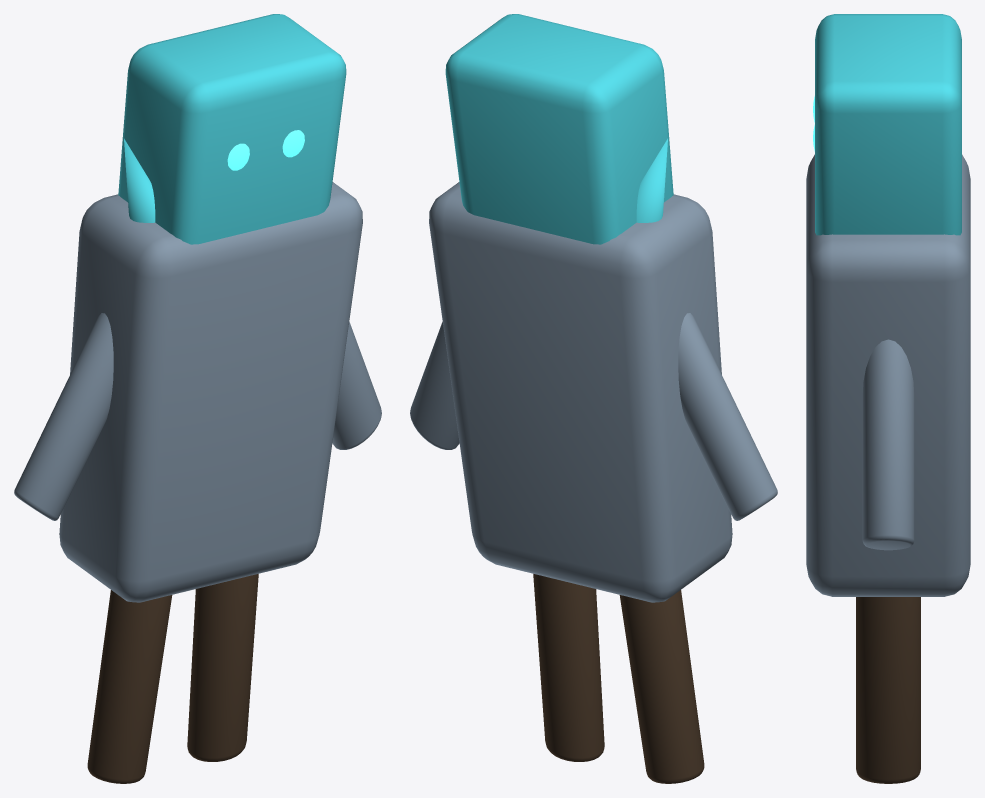
The model's file is construct_v4.glb.
3 renders of one model, left to right at view 1: azimuth 30°, elevation 25°; view 2: azimuth 150°, elevation 25°; view 3: azimuth 270°, elevation 25°, orthographic. The views are drawn at different scales.
Parts seen in each view (by area): view 1: BODY_PRIMARY, HEAD_ACCENT, LEG_L_SECONDARY, LEG_R_SECONDARY, ARM_L_PRIMARY, ARM_R_PRIMARY, CROWN_HORN_ACCENT; view 2: BODY_PRIMARY, HEAD_ACCENT, LEG_L_SECONDARY, LEG_R_SECONDARY, ARM_L_PRIMARY, ARM_R_PRIMARY, CROWN_HORN_ACCENT; view 3: BODY_PRIMARY, HEAD_ACCENT, LEG_R_SECONDARY, ARM_R_PRIMARY.
Part boxes in pixels (x1,y1,x2,y2): BODY_PRIMARY: (59,182,362,602); HEAD_ACCENT: (118,14,346,244); LEG_L_SECONDARY: (87,590,172,783); LEG_R_SECONDARY: (187,574,258,761); ARM_L_PRIMARY: (14,313,113,520); ARM_R_PRIMARY: (332,322,381,449); CROWN_HORN_ACCENT: (124,138,155,222); BODY_PRIMARY: (429,182,732,602); HEAD_ACCENT: (445,14,673,244); LEG_L_SECONDARY: (619,590,704,783); LEG_R_SECONDARY: (533,574,604,761); ARM_L_PRIMARY: (678,313,777,520); ARM_R_PRIMARY: (410,322,459,449); CROWN_HORN_ACCENT: (636,138,667,222); BODY_PRIMARY: (806,154,970,596); HEAD_ACCENT: (815,14,961,235); LEG_R_SECONDARY: (856,597,920,783); ARM_R_PRIMARY: (862,339,914,550).
Size of the model in its own units: 1.77 by 3.26 by 0.6536.
